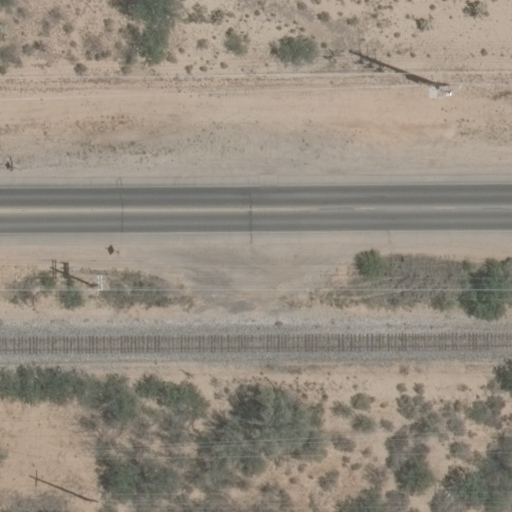DT: (434, 74, 461, 101), (86, 485, 111, 506), (89, 276, 113, 297)
